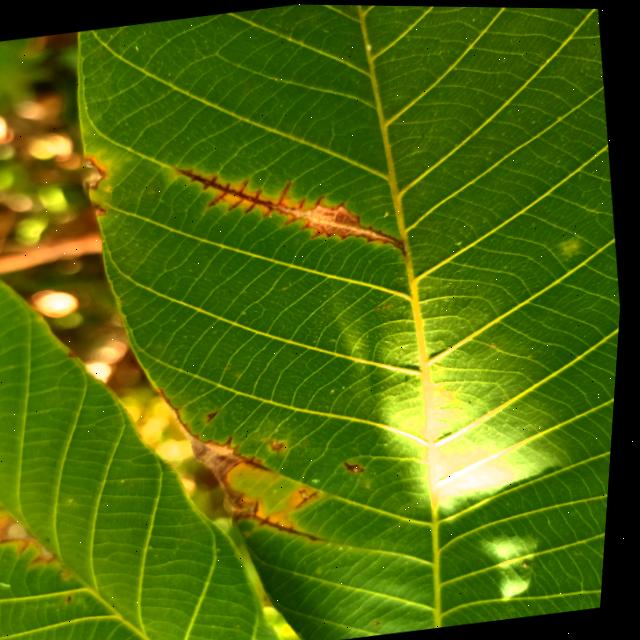Corynespora: (178, 140, 416, 283), (240, 492, 333, 552), (249, 452, 281, 476), (298, 485, 327, 507)
Leaf-Blight: (192, 428, 258, 517)
